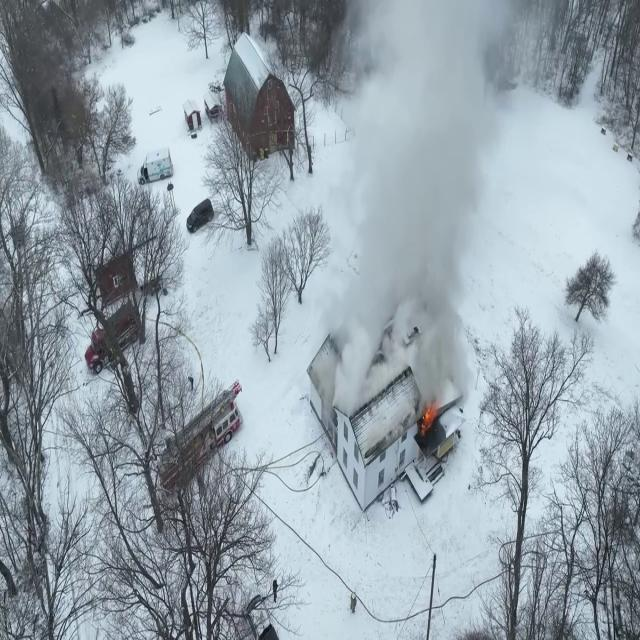Smoke: (296, 0, 574, 456)
